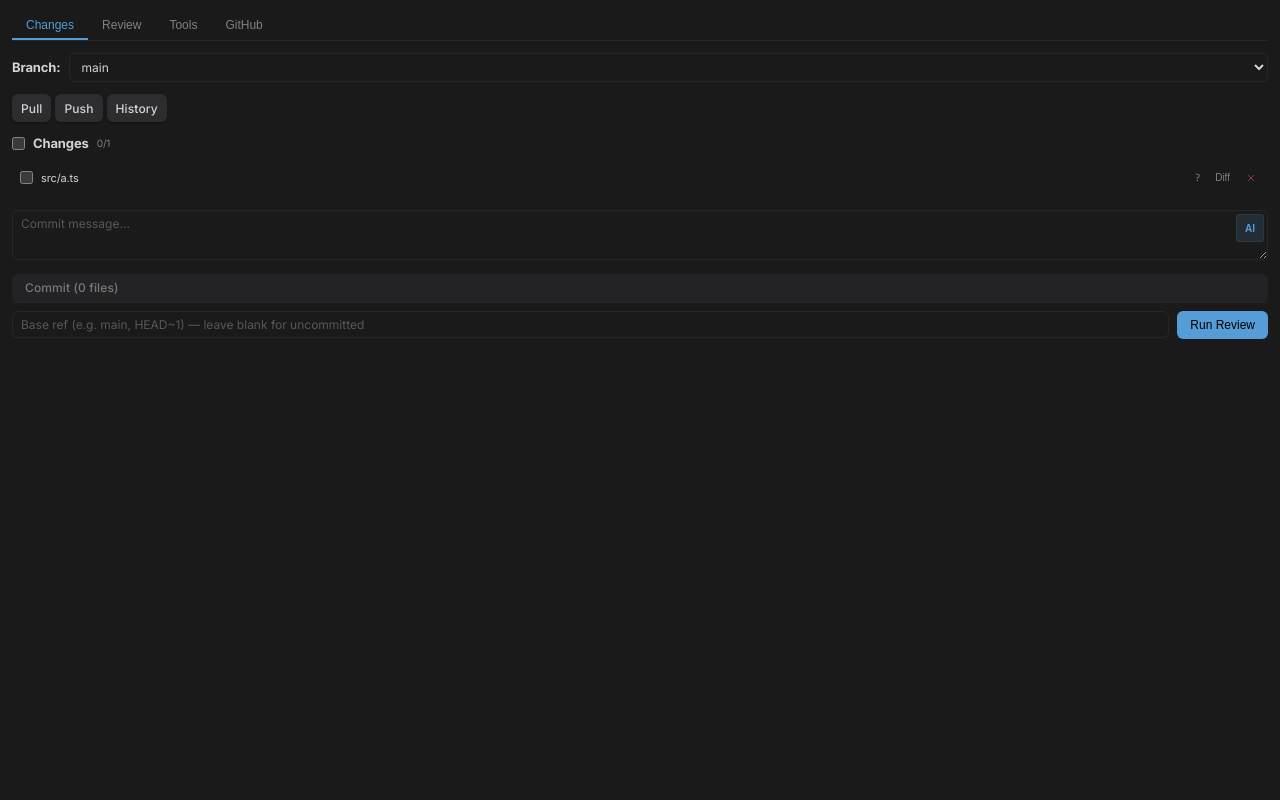
Test: GitPanel tabs › shows the AI git tools on their own tab
expect the heading "Changes" is shown: met, box [33,134,89,154]
Click the tab "Tools": click(183, 26) [155,12,211,40]
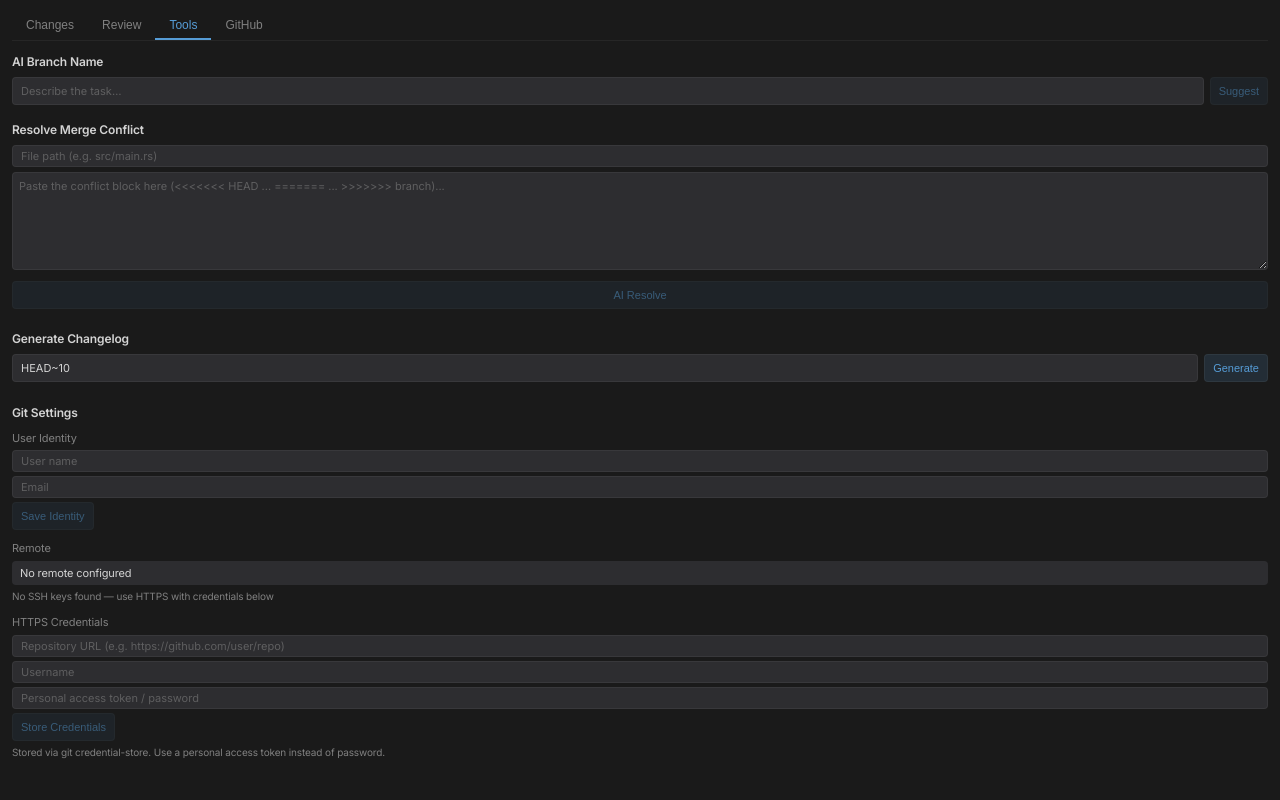
expect the field with placeholder "Describe the task…" is shown: met, box [12,77,1204,105]
expect the field with placeholder "File path (e.g. src/main.rs)" is shown: met, box [12,145,1268,167]
